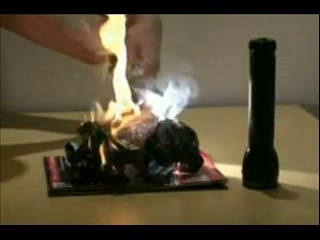fire: (77, 104, 140, 167), (96, 14, 132, 103)
smoke: (144, 75, 198, 124)
